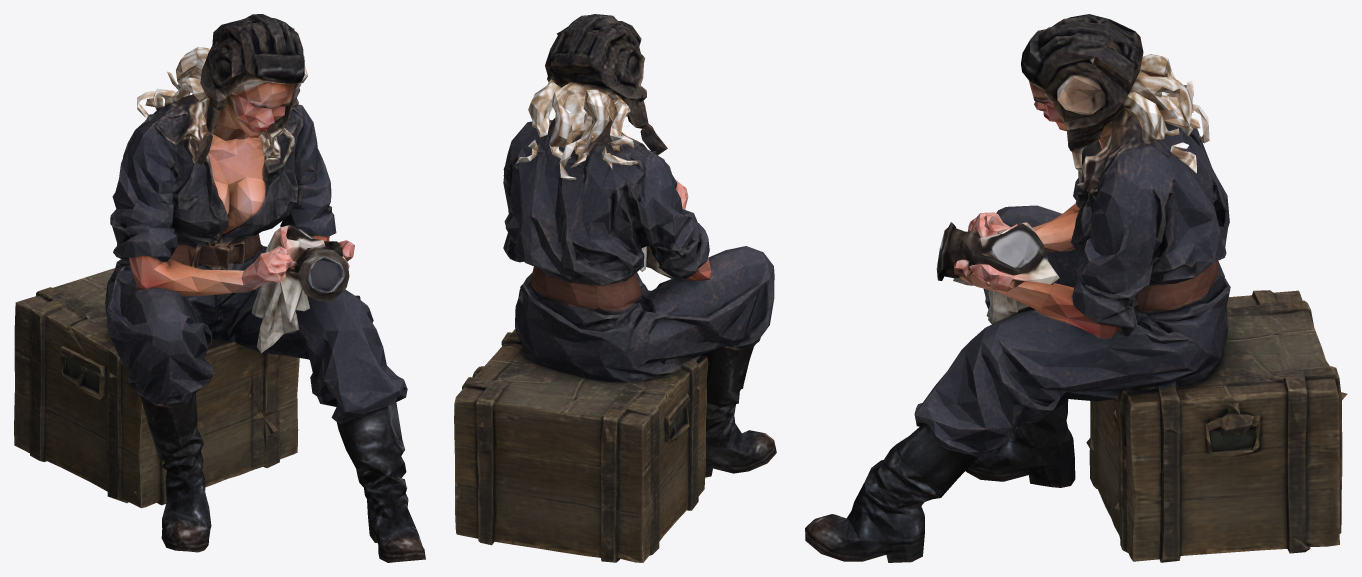
File: crew_su_gunner_4_idle.glb
The picture shows the model from 3 angles, left to right: view 1: azimuth 30°, elevation 25°; view 2: azimuth 150°, elevation 25°; view 3: azimuth 270°, elevation 25°; orthographic projection. The views are drawn at different scales.
Visible parts, largest first — view 1: geometry_0; view 2: geometry_0; view 3: geometry_0.
Boxes of the visible parts, x1=… form: geometry_0: x1=14, y1=14, x2=425, y2=562; geometry_0: x1=454, y1=14, x2=776, y2=562; geometry_0: x1=805, y1=14, x2=1347, y2=562.
Bounding box in the file's own units: 0.5317 × 1 × 0.9552.
Materials: 1 (1 with a texture image).
